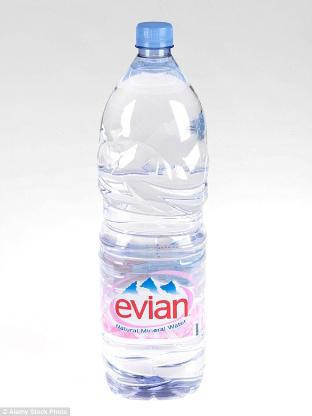Plastic Bottle: (96, 20, 209, 400)
